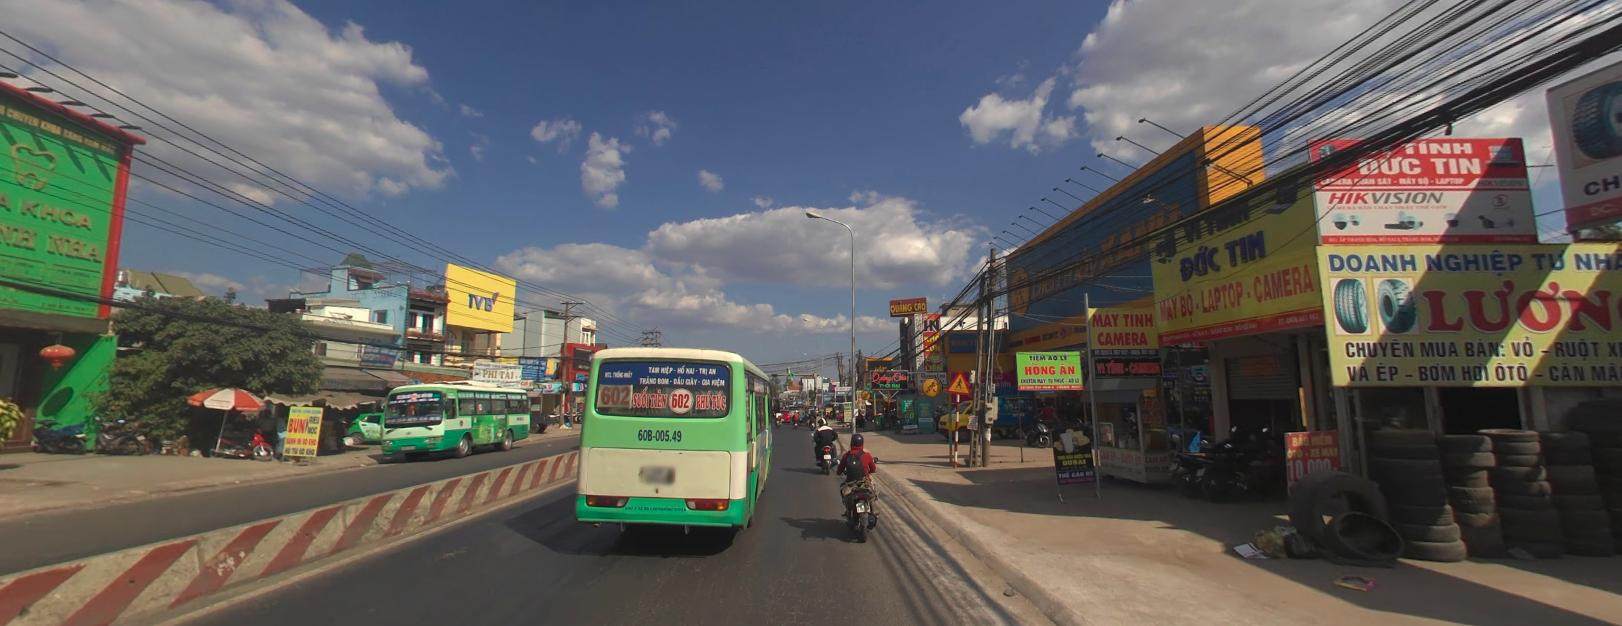Nguy hiem: (945, 369, 970, 393)
